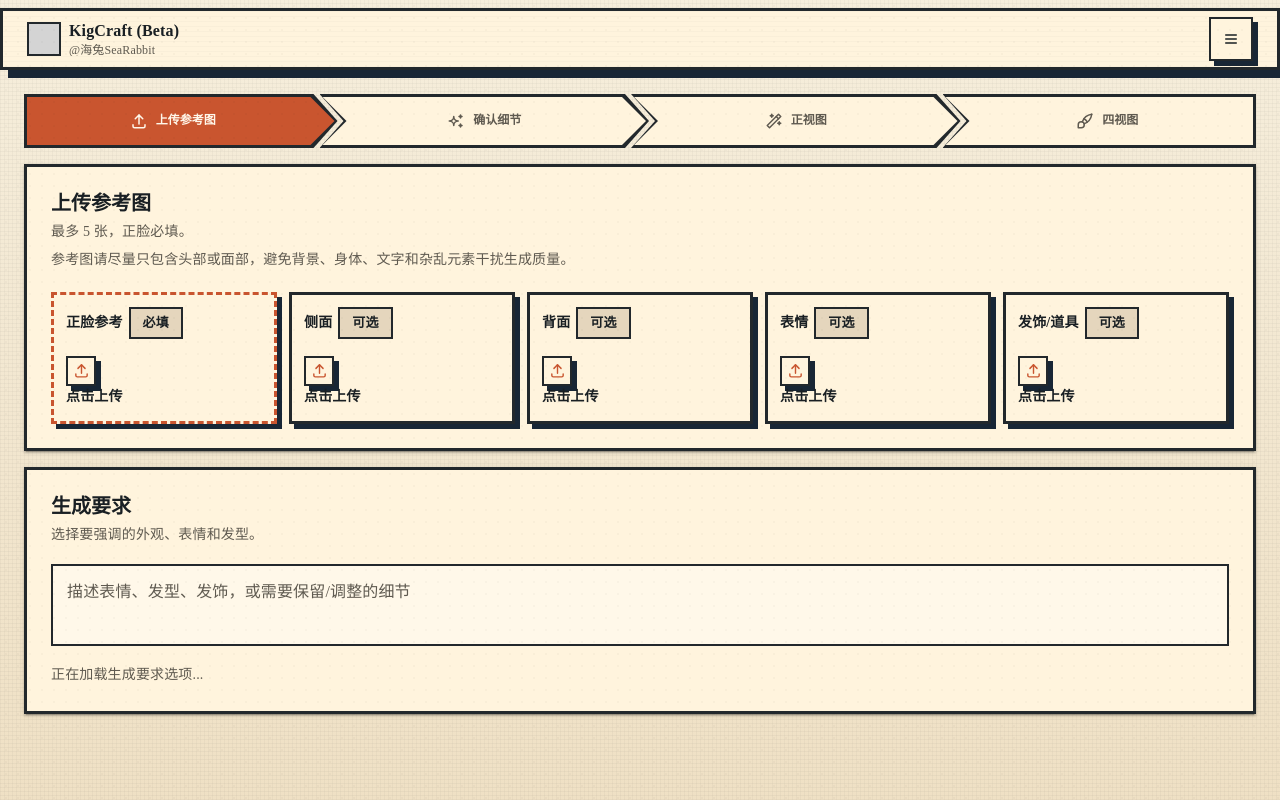
Test: WorkflowPage › collapses implemented header destinations into a mobile menu
This screenshot has width=1280, height=800.
Click the button with test id "header-nav-menu" at (1231, 39), box [1209, 17, 1253, 61]
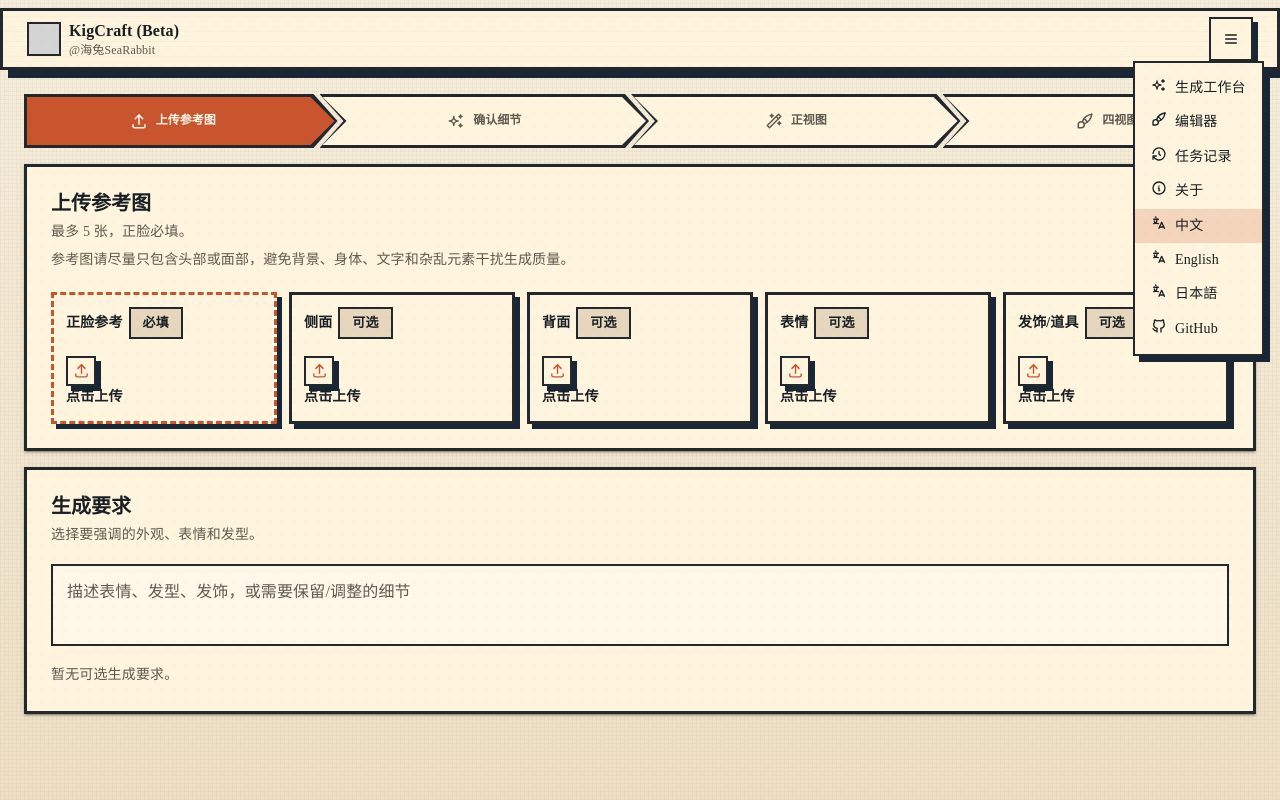
Now the menu is shown, box [1135, 63, 1262, 354]
